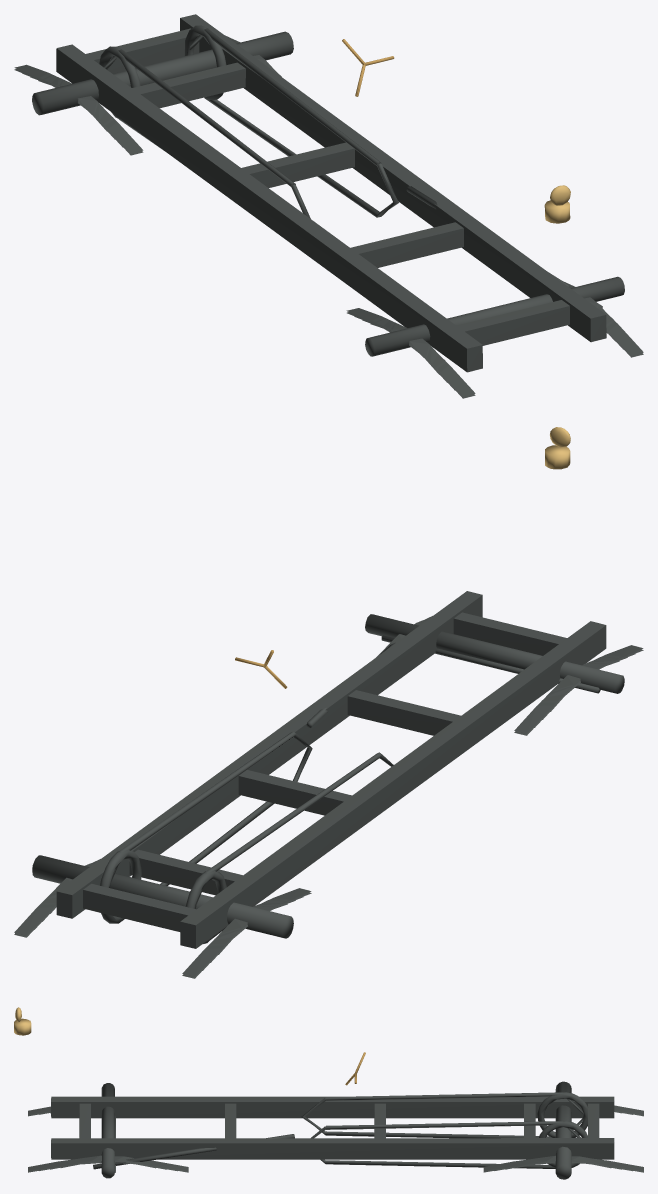
The model's file is Benz_1912_Racer_Concept_LOD2.fbx.
3 views of the same model, one above another, from view 1: azimuth 30°, elevation 25°; view 2: azimuth 150°, elevation 25°; view 3: azimuth 270°, elevation 25° (orthographic). The views are drawn at different scales.
Visible parts, largest first — view 1: BENZ_Chassis_Root_OPT_Merged_RB_Steel_Blackened_OPT_DATA_LOD, BENZ_Radiator_Root_OPT_Merged_RB_Brass_Polished_OPT_DATA_LOD; view 2: BENZ_Chassis_Root_OPT_Merged_RB_Steel_Blackened_OPT_DATA_LOD, BENZ_Radiator_Root_OPT_Merged_RB_Brass_Polished_OPT_DATA_LOD; view 3: BENZ_Chassis_Root_OPT_Merged_RB_Steel_Blackened_OPT_DATA_LOD, BENZ_Radiator_Root_OPT_Merged_RB_Brass_Polished_OPT_DATA_LOD.
Boxes of the visible parts, x1,y1,x2,y2 form: BENZ_Chassis_Root_OPT_Merged_RB_Steel_Blackened_OPT_DATA_LOD: [14, 14, 643, 398]; BENZ_Radiator_Root_OPT_Merged_RB_Brass_Polished_OPT_DATA_LOD: [544, 185, 570, 223]; BENZ_Chassis_Root_OPT_Merged_RB_Steel_Blackened_OPT_DATA_LOD: [14, 591, 643, 978]; BENZ_Radiator_Root_OPT_Merged_RB_Brass_Polished_OPT_DATA_LOD: [545, 427, 570, 469]; BENZ_Chassis_Root_OPT_Merged_RB_Steel_Blackened_OPT_DATA_LOD: [28, 1081, 643, 1179]; BENZ_Radiator_Root_OPT_Merged_RB_Brass_Polished_OPT_DATA_LOD: [14, 1007, 31, 1035].
Size of what is drawn, in the model's own units: 146 by 119 by 463.
